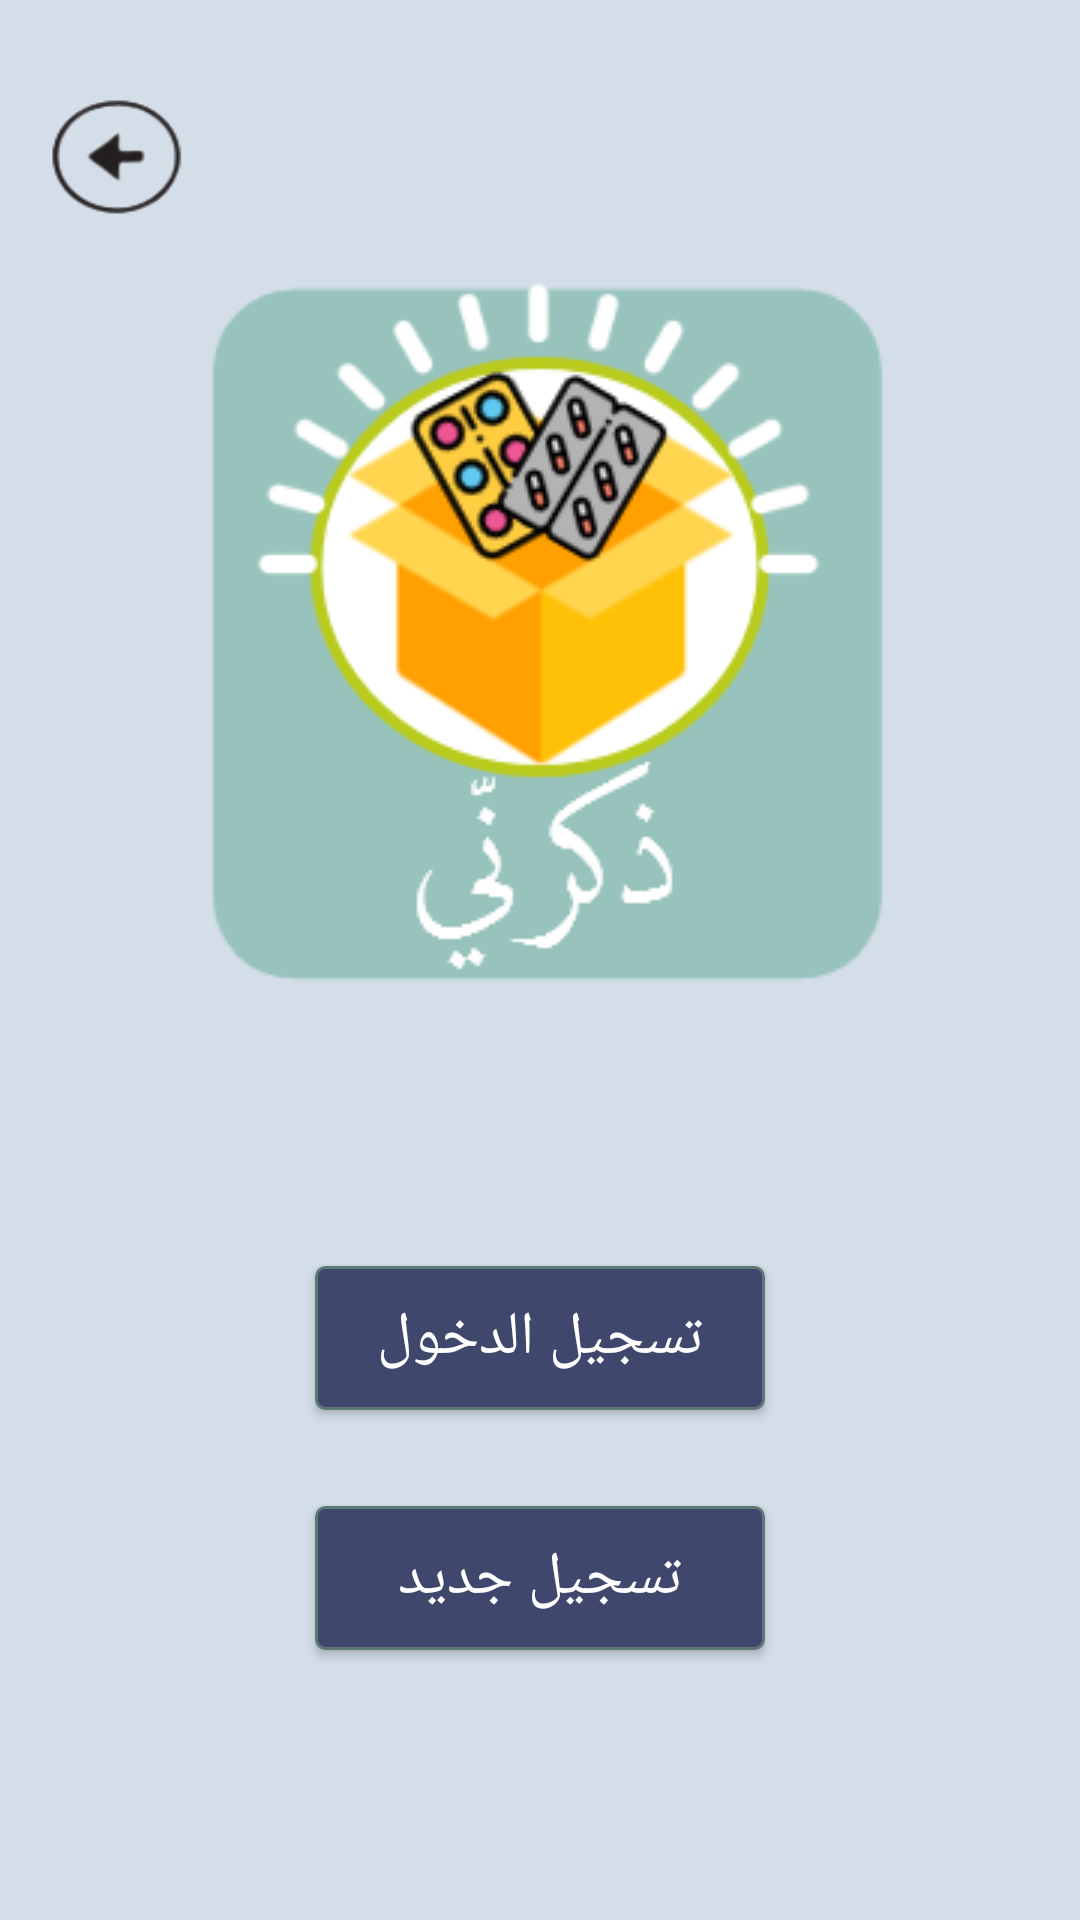

Icons on this 1080px×1920px Android screen, each with its box as (x1, y1, x2, y2):
backbutton: (52, 100, 182, 214)
